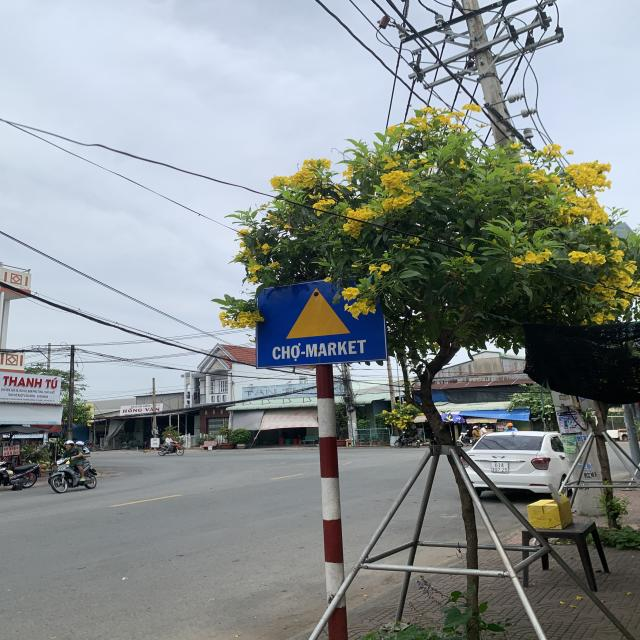Cho_Quay_Xe: (257, 277, 384, 370)
